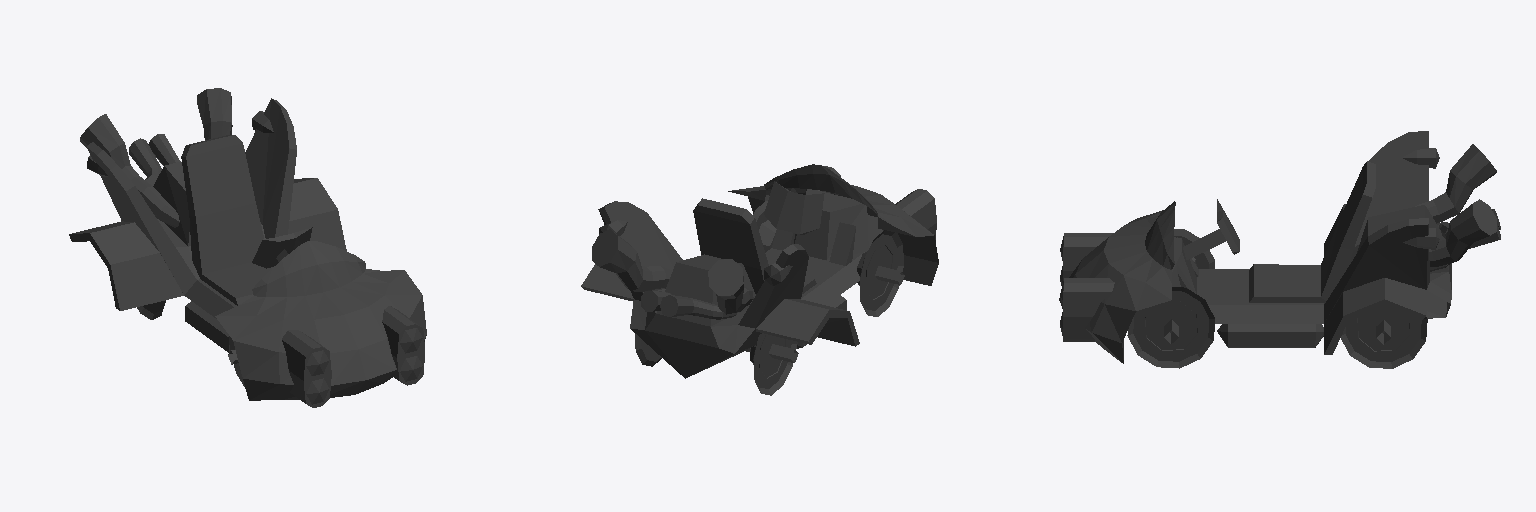
The model's file is KartOxide.obj.
3 renders of one model, left to right at view 1: azimuth 30°, elevation 25°; view 2: azimuth 150°, elevation 25°; view 3: azimuth 270°, elevation 25°, orthographic.
Parts seen in each view (by area): view 1: DrawCall_62.001; view 2: DrawCall_62.001; view 3: DrawCall_62.001.
Boxes of the visible parts, x1,y1,x2,y2 form: DrawCall_62.001: [69, 88, 426, 407]; DrawCall_62.001: [581, 164, 938, 395]; DrawCall_62.001: [1059, 131, 1500, 368].
Size of the model in its own units: 16.85 by 11.89 by 28.33.